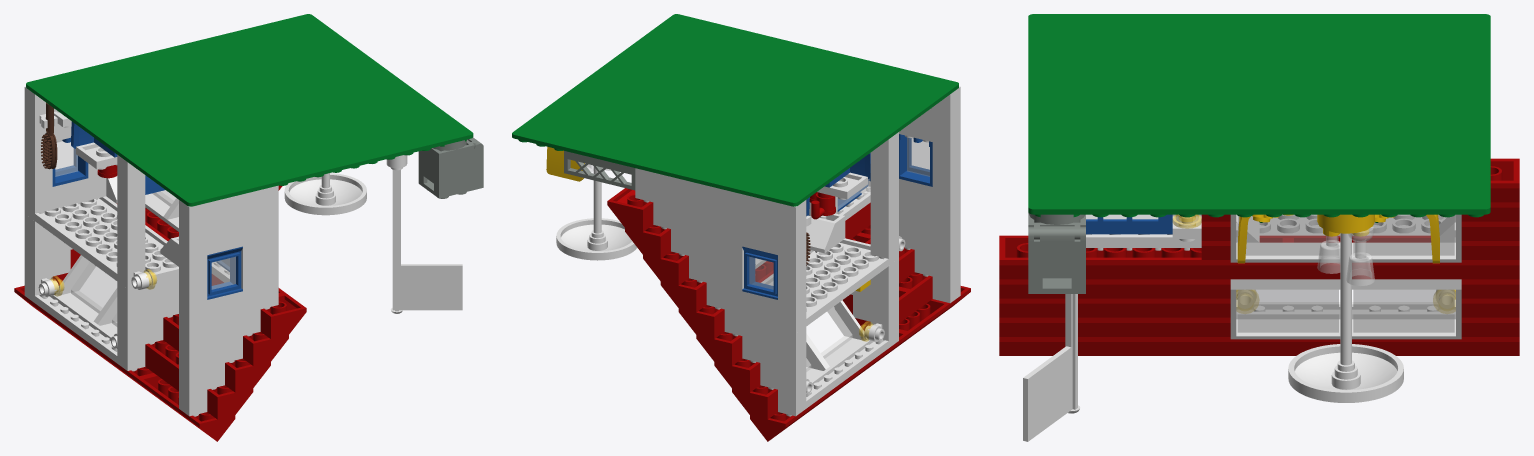
The picture shows the model from 3 angles, left to right: view 1: azimuth 30°, elevation 25°; view 2: azimuth 150°, elevation 25°; view 3: azimuth 270°, elevation 25°; orthographic projection. The views are drawn at different scales.
Bounding box in the file's own units: 330 × 252 × 360.
